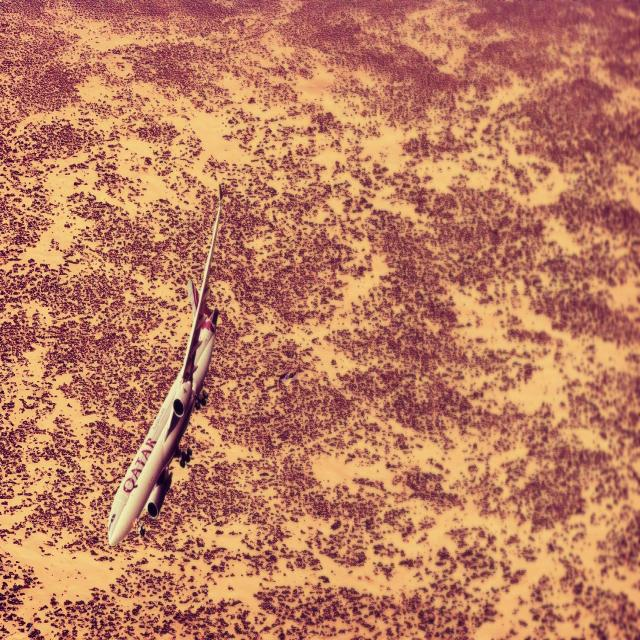airplane: (106, 182, 222, 547)
